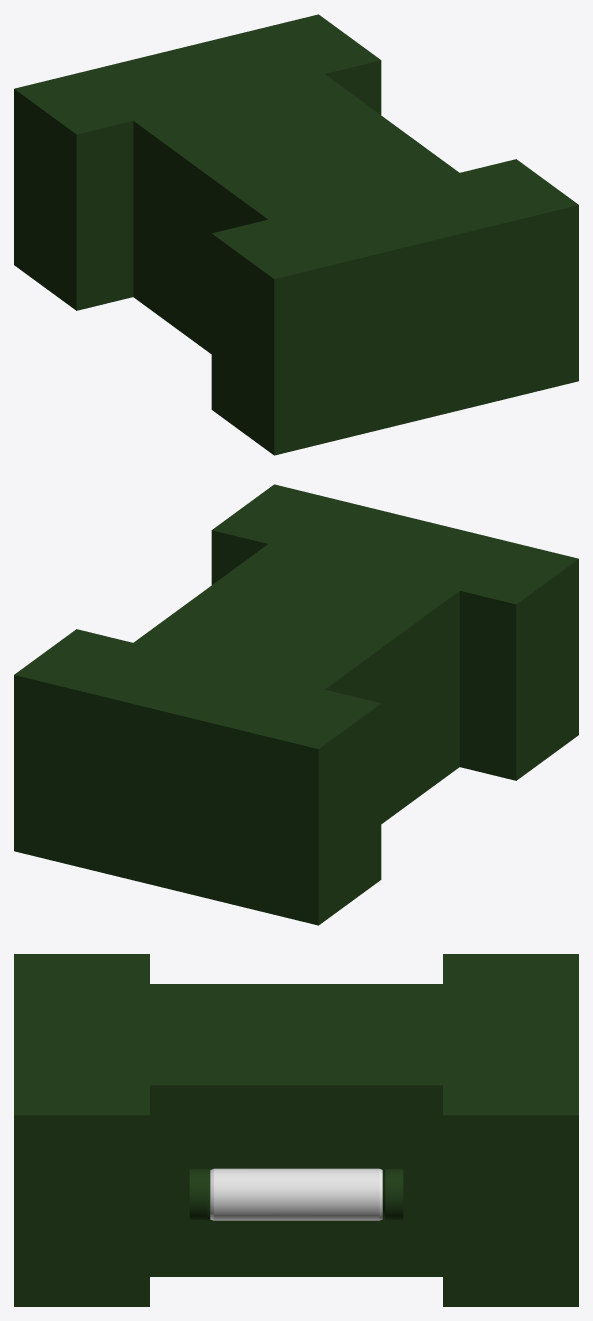
The model's file is Jakana_Mockup.fbx.
3 views of the same model, one above another, from view 1: azimuth 30°, elevation 25°; view 2: azimuth 150°, elevation 25°; view 3: azimuth 270°, elevation 25° (orthographic). The views are drawn at different scales.
Parts seen in each view (by area): view 1: Caixa_Jakana_Mockup; view 2: Caixa_Jakana_Mockup; view 3: Caixa_Jakana_Mockup.
Part boxes in pixels (bbox=[...]): Caixa_Jakana_Mockup: bbox=[14, 14, 578, 455]; Caixa_Jakana_Mockup: bbox=[14, 484, 578, 925]; Caixa_Jakana_Mockup: bbox=[14, 954, 578, 1306].
Bounding box in the file's own units: 102 × 56.24 × 150.
